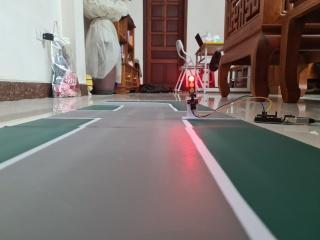red: (181, 73, 202, 104)
